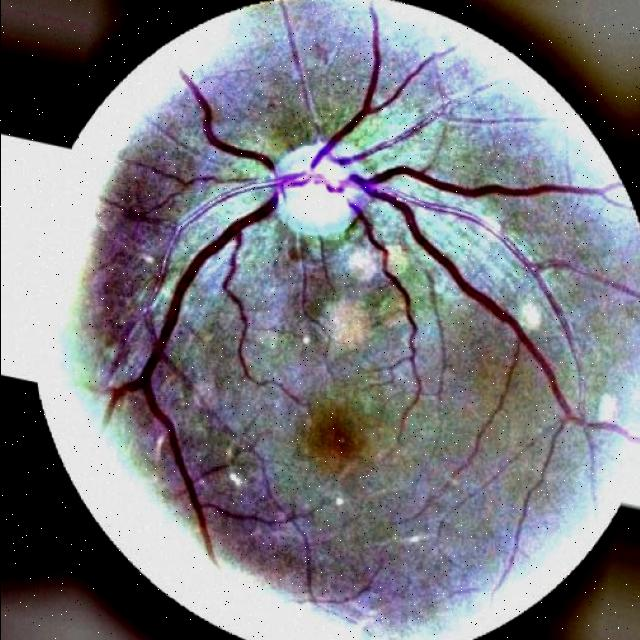Macula: (271, 391, 375, 489)
Nerves: (327, 159, 630, 446), (101, 151, 305, 564)
Optic Disk: (254, 127, 383, 269)
